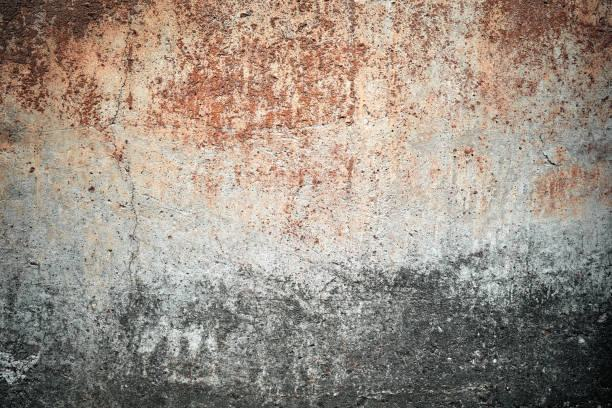Corrosion: (1, 1, 612, 247)
Crack: (107, 1, 140, 289)
